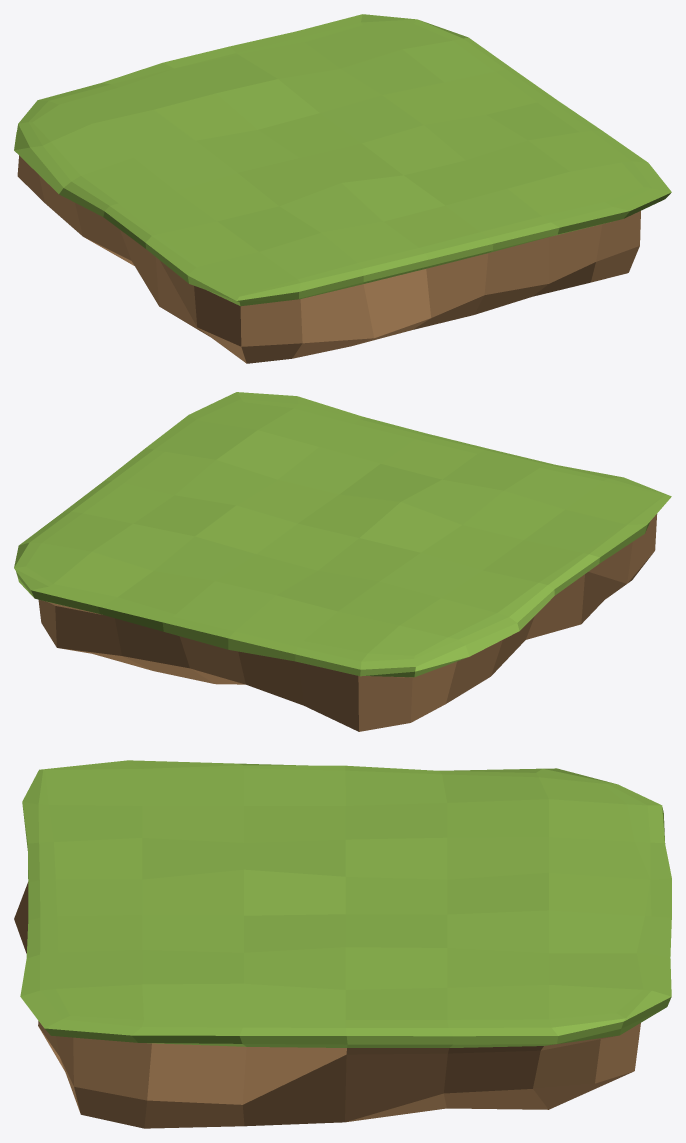
The model's file is IslandBase.fbx.
3 views of the same model, one above another, from view 1: azimuth 30°, elevation 25°; view 2: azimuth 150°, elevation 25°; view 3: azimuth 270°, elevation 25° (orthographic). The views are drawn at different scales.
Visible parts, largest first — view 1: IslandBase; view 2: IslandBase; view 3: IslandBase.
Boxes of the visible parts, x1,y1,x2,y2 form: IslandBase: (14, 14, 671, 363); IslandBase: (14, 392, 671, 731); IslandBase: (14, 760, 671, 1128).
Bounding box in the file's own units: 1598 × 372 × 1619.
